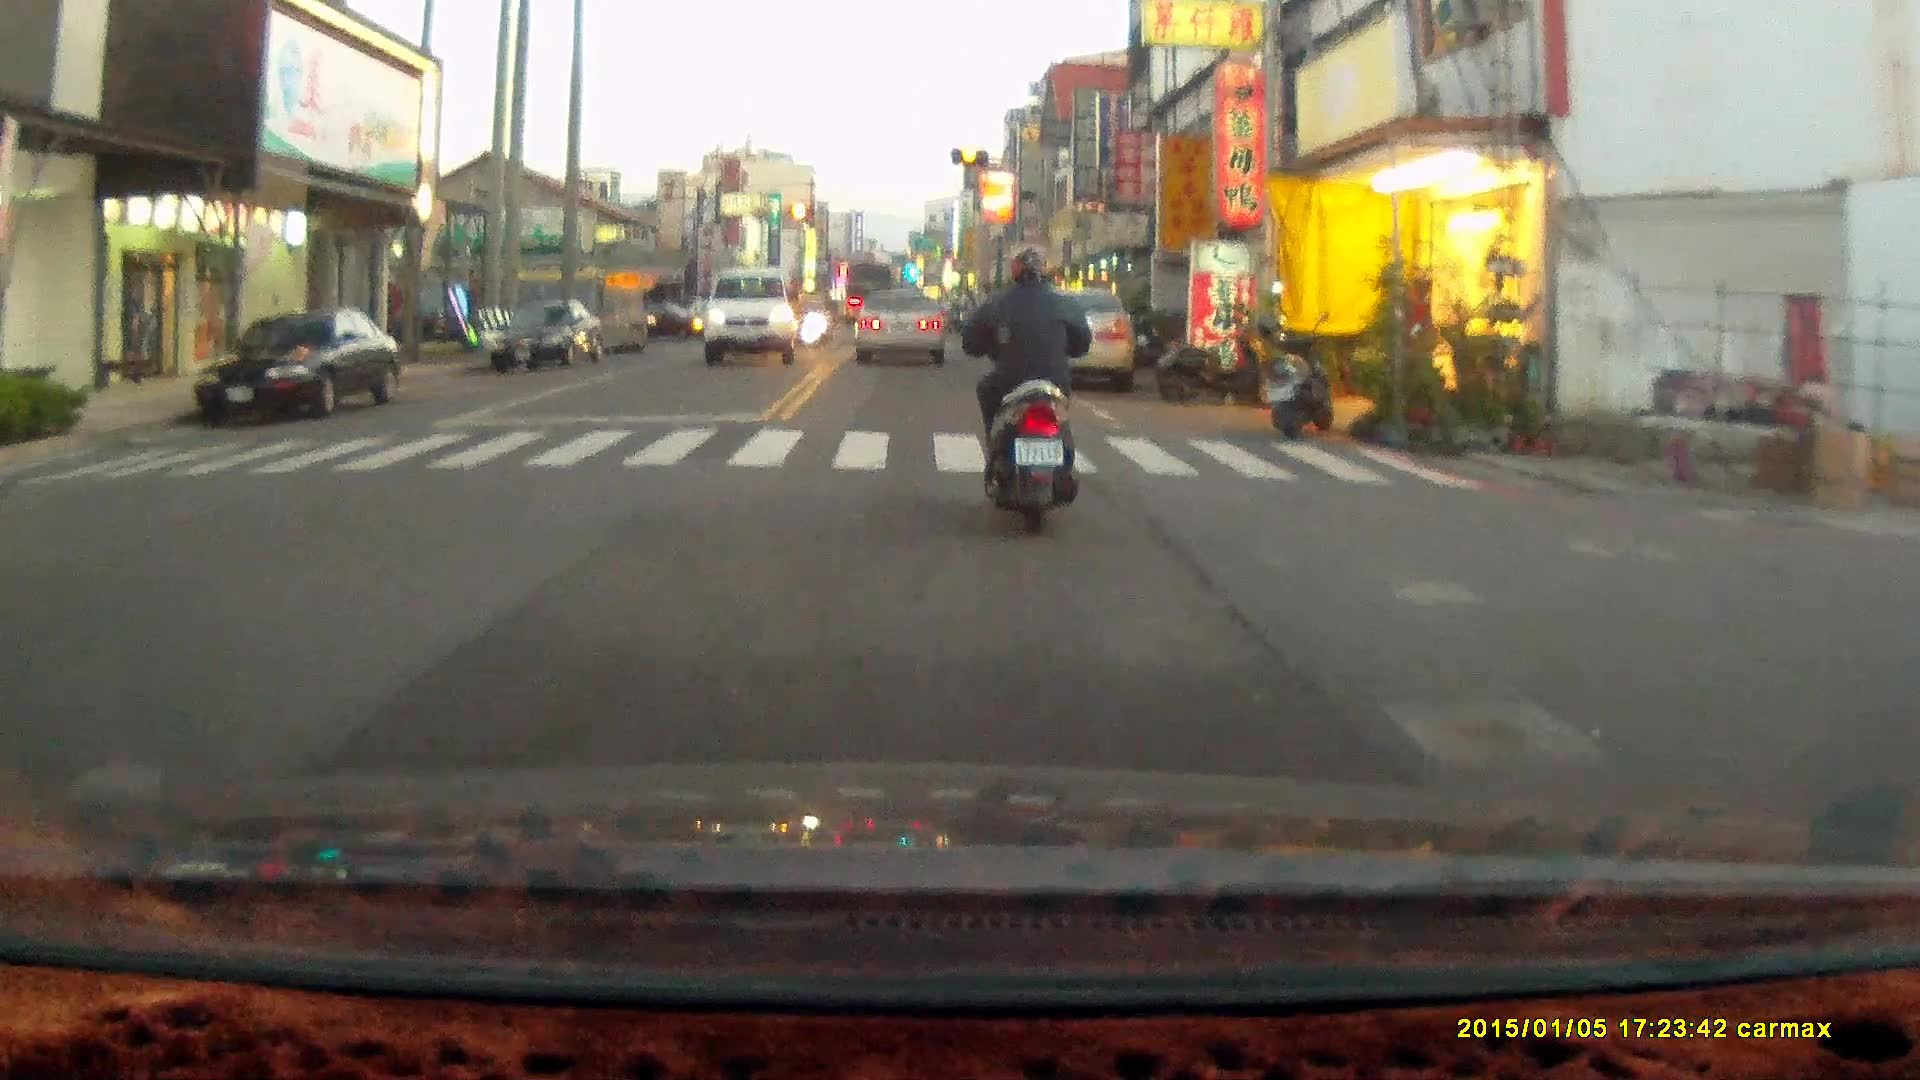pedestrian: (1406, 277, 1438, 393)
rider: (957, 250, 1091, 544)
vehicle: (189, 315, 398, 425), (1014, 290, 1142, 396), (701, 270, 801, 370), (490, 299, 607, 377), (860, 295, 958, 367)
